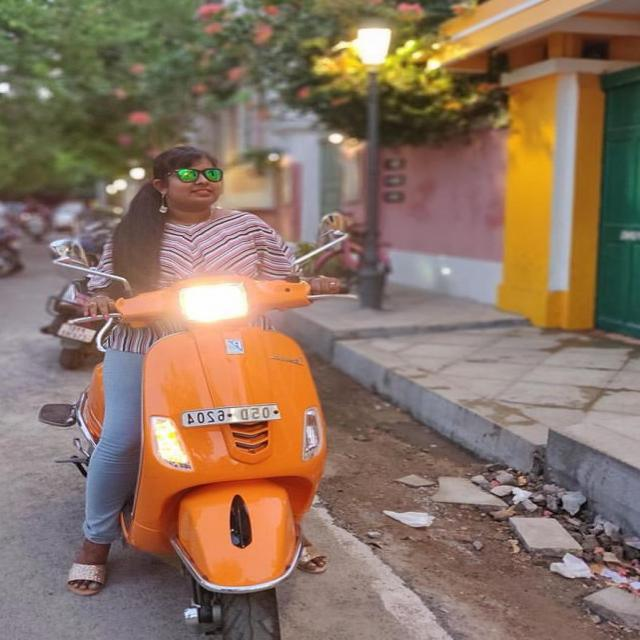Not Wearing Helmet: (12, 116, 260, 283)
